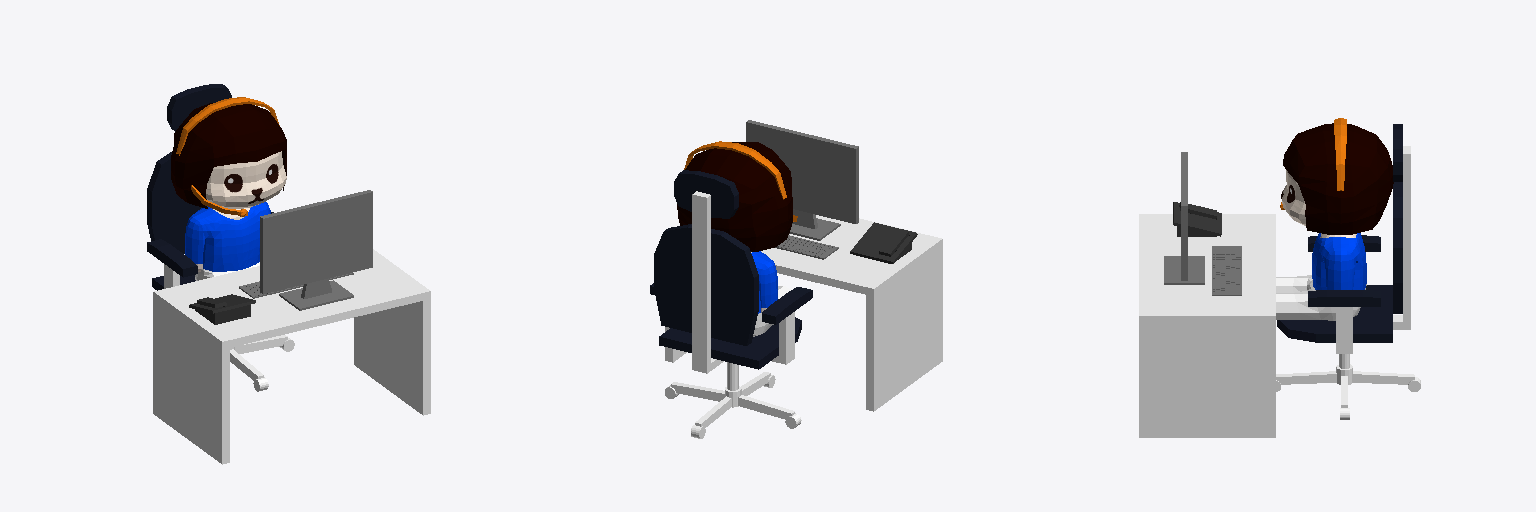
The picture shows the model from 3 angles: view 1: azimuth 30°, elevation 25°; view 2: azimuth 150°, elevation 25°; view 3: azimuth 270°, elevation 25°; orthographic projection.
Size of the model in its own units: 8.52 by 10.39 by 9.98.
Materials: 10 (1 with a texture image).